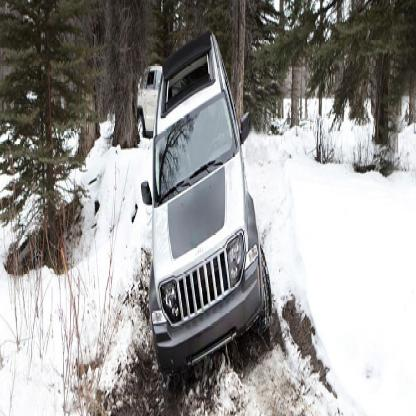Vehicle: (140, 25, 274, 387)
